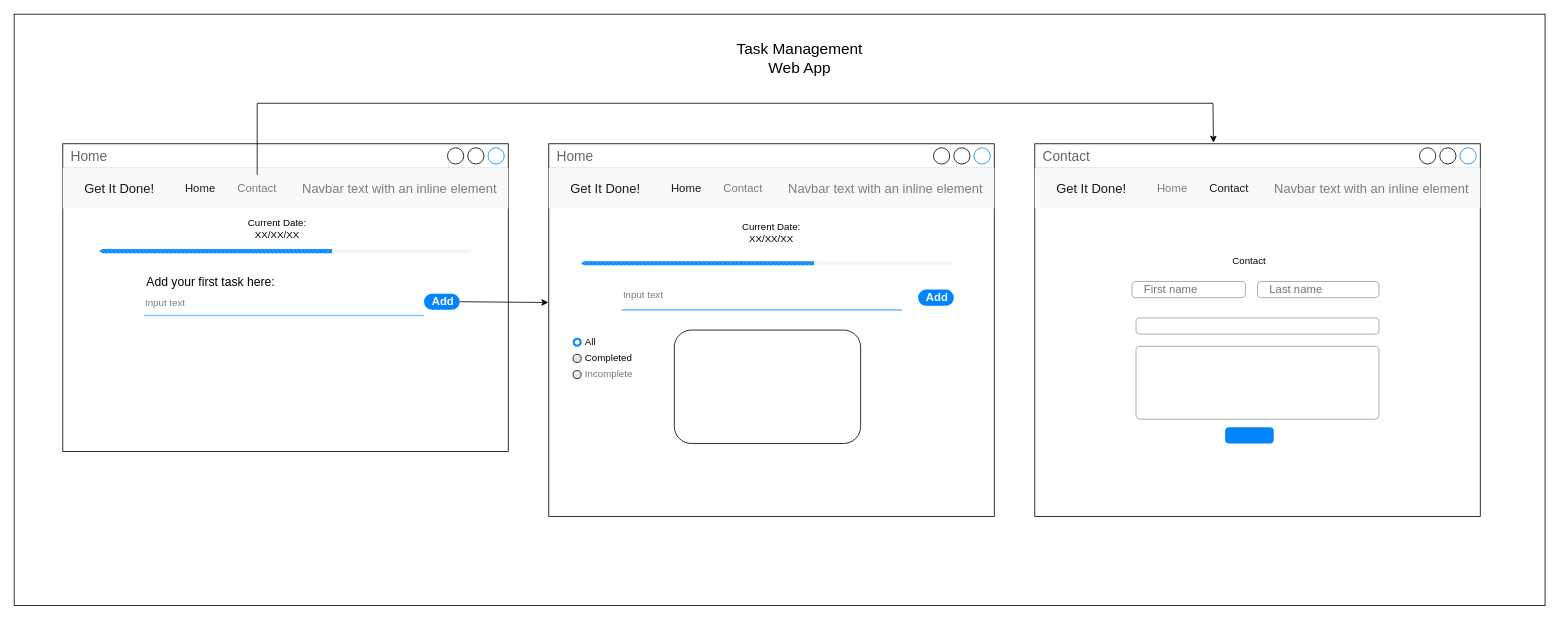
Some shapes in this 1559 by 620 pixel diagram are drawn without their labels. The box of each missing label's shape, as (x1, y1, x2, y2) in pixels:
Comment: (1135, 345, 1379, 419)
Email: (1135, 317, 1379, 334)
Submit: (1225, 427, 1273, 443)
Task 1 X Task 2 X Task 3 X: (674, 329, 861, 443)
